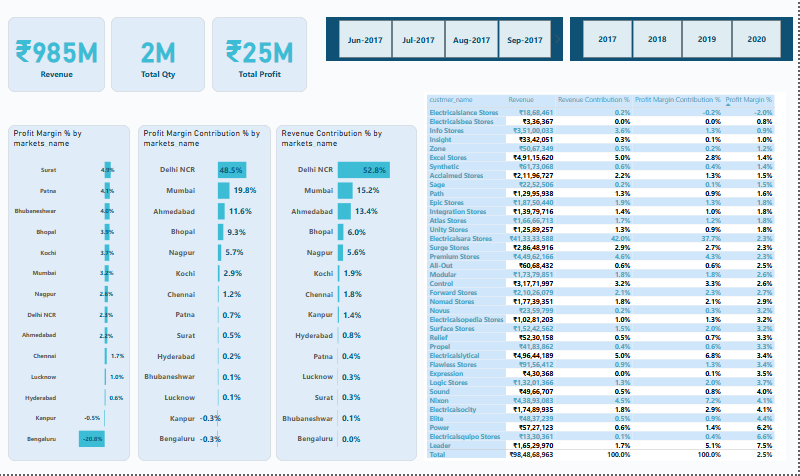

The dashboard page shown, as its layout file describes it:
{"tool":"powerbi","page":{"name":"Profit Analysis","canvas":[1600,950],"ordinal":1},"visuals":[{"type":"card","fields":{"Values":["Basemeasures.Total Profit"]},"box":[428,36,190,150],"z":0},{"type":"card","fields":{"Values":["Basemeasures.Revenue"]},"box":[20,36,194,150],"z":1000},{"type":"card","fields":{"Values":["Basemeasures.Total Qty"]},"box":[226,36,188,150],"z":2000},{"type":"clusteredBarChart","fields":{"Category":["sales markets.markets_name"],"Y":["Basemeasures.Profit Margin %"]},"box":[20,252,244,672],"z":3000},{"type":"clusteredBarChart","fields":{"Category":["sales markets.markets_name"],"Y":["Basemeasures.Profit Margin Contribution %"]},"box":[280,252,266,672],"z":4000},{"type":"slicer","fields":{"Values":["sales date.cy_date"]},"box":[656,36,474,88],"z":5000},{"type":"slicer","fields":{"Values":["sales date.year"]},"box":[1143.8,36.2,446.2,87.5],"z":6000},{"type":"tableEx","fields":{"Values":["sales customers.custmer_name","Basemeasures.Revenue","Basemeasures.Revenue Contribution %","Basemeasures.Profit Margin Contribution %","Basemeasures.Profit Margin %"]},"box":[852,186,724,738],"z":7000},{"type":"clusteredBarChart","fields":{"Category":["sales markets.markets_name"],"Y":["Basemeasures.Revenue Contribution %"]},"box":[556,252,282,672],"z":8000}]}

Visuals, with their boxes in screenshot pixels (x1, y1, x2, y2), scaled from the page's 1600x950 canvas onto the 800x476 screenshot:
card - Basemeasures.Total Profit: [left=214, top=18, right=309, bottom=93]
card - Basemeasures.Revenue: [left=10, top=18, right=107, bottom=93]
card - Basemeasures.Total Qty: [left=113, top=18, right=207, bottom=93]
clusteredBarChart - sales markets.markets_name x Basemeasures.Profit Margin %: [left=10, top=126, right=132, bottom=463]
clusteredBarChart - sales markets.markets_name x Basemeasures.Profit Margin Contribution %: [left=140, top=126, right=273, bottom=463]
slicer - sales date.cy_date: [left=328, top=18, right=565, bottom=62]
slicer - sales date.year: [left=572, top=18, right=795, bottom=62]
tableEx - sales customers.custmer_name x Basemeasures.Revenue: [left=426, top=93, right=788, bottom=463]
clusteredBarChart - sales markets.markets_name x Basemeasures.Revenue Contribution %: [left=278, top=126, right=419, bottom=463]
